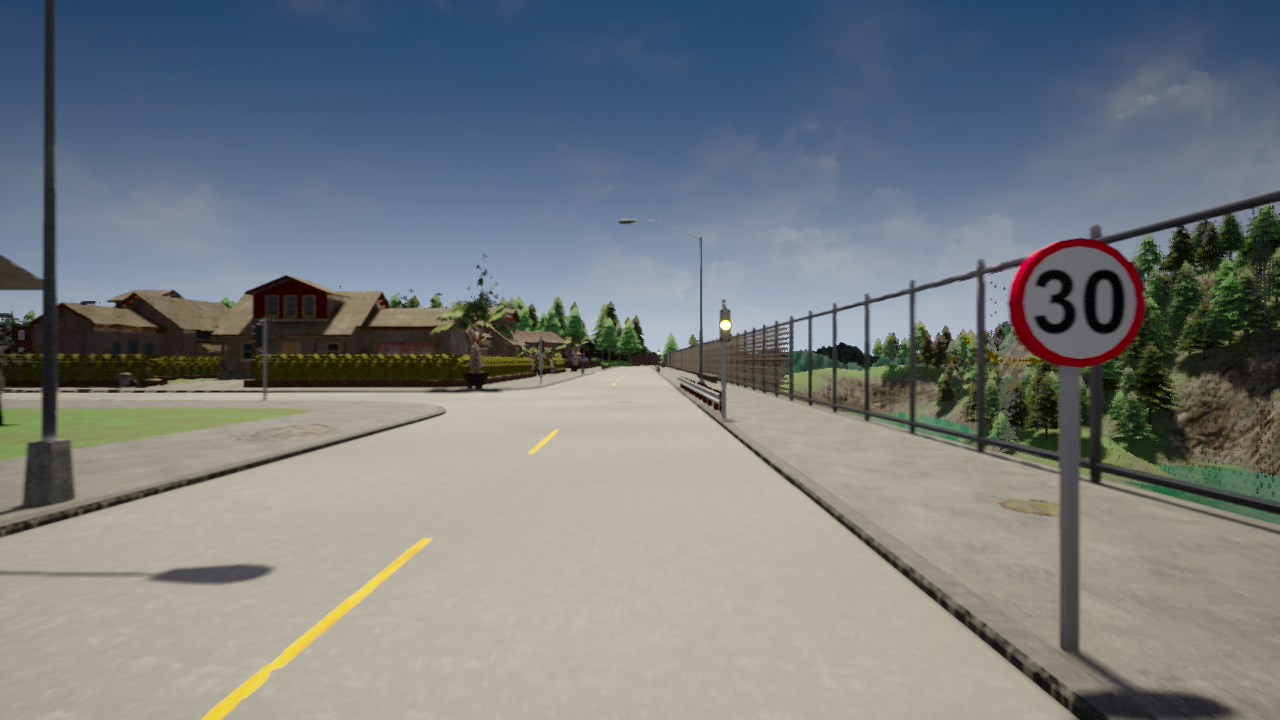yellow: (718, 307, 733, 344)
